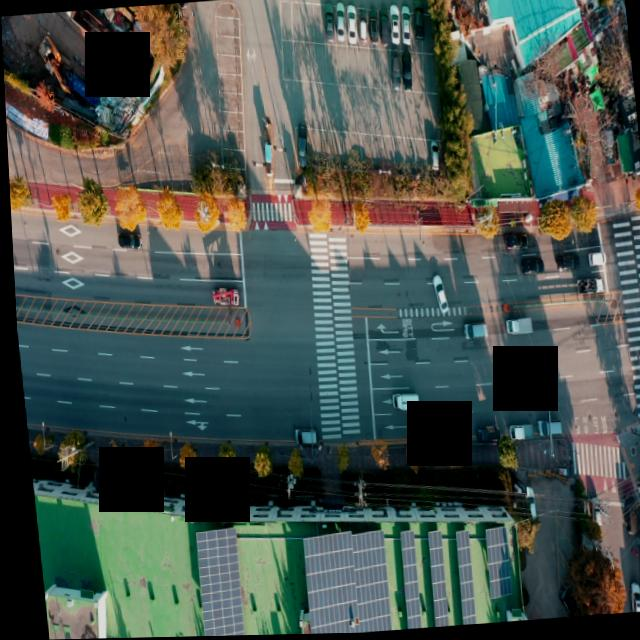car: (516, 483, 533, 526), (530, 419, 560, 443), (400, 48, 414, 96), (429, 274, 445, 314), (502, 233, 530, 255), (294, 131, 308, 171), (412, 5, 425, 43), (388, 53, 401, 90), (583, 250, 605, 271), (117, 230, 142, 248), (518, 259, 542, 277), (334, 6, 346, 42), (551, 257, 575, 275), (461, 324, 486, 341), (378, 12, 390, 47), (368, 15, 381, 47), (291, 430, 314, 448), (391, 10, 402, 47), (401, 7, 412, 44), (325, 3, 336, 40), (552, 589, 566, 618), (346, 7, 357, 43), (623, 584, 635, 615), (357, 16, 367, 46), (588, 498, 598, 526), (428, 143, 437, 171)
medium_truck: (66, 8, 118, 52)
small_truck: (387, 392, 417, 417), (571, 277, 603, 300), (501, 317, 531, 340), (503, 425, 531, 448), (208, 286, 237, 307), (617, 499, 631, 542), (472, 426, 496, 445)
